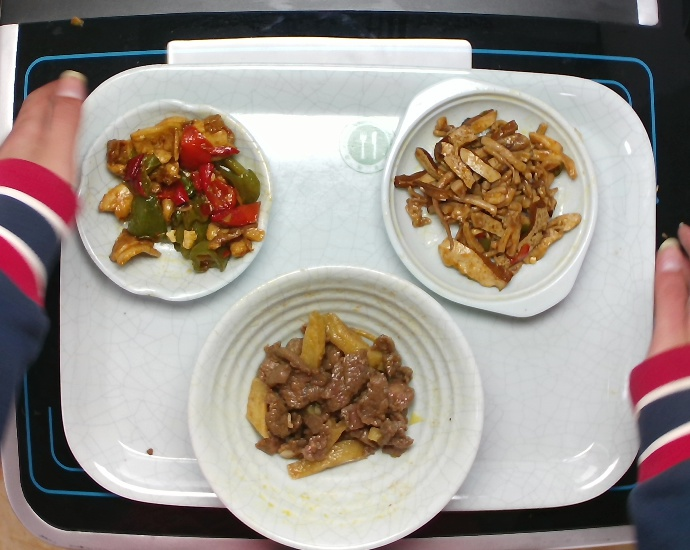JYsf-Ao_Yuan_Wan: (70, 95, 275, 309)
JYsf-Shuang_Er_Pan: (382, 77, 598, 320)
JYsf-Xiao_Tang_Wan: (186, 262, 487, 550)
